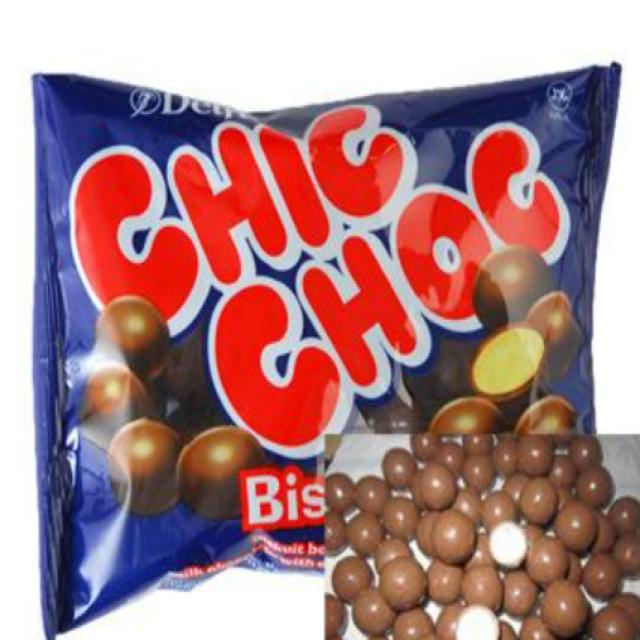KemasanPlastik: (26, 59, 606, 608)
